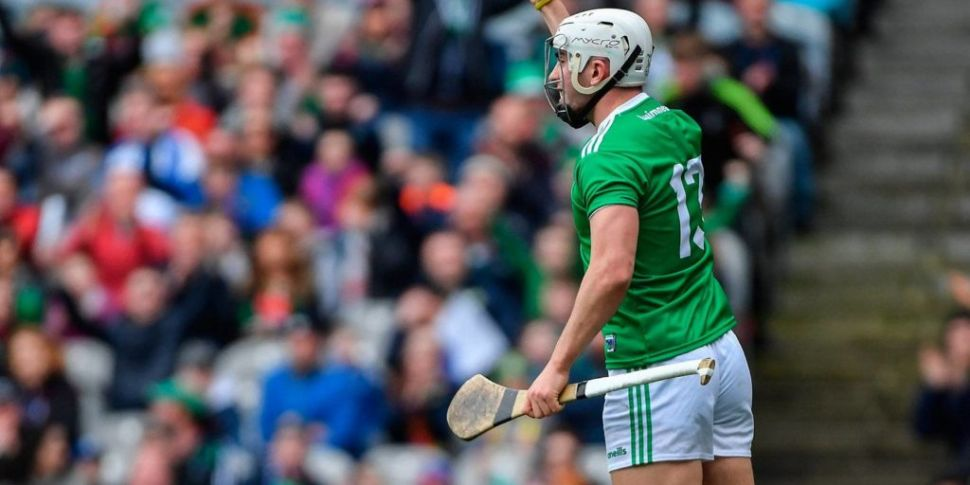player: (522, 5, 763, 481)
